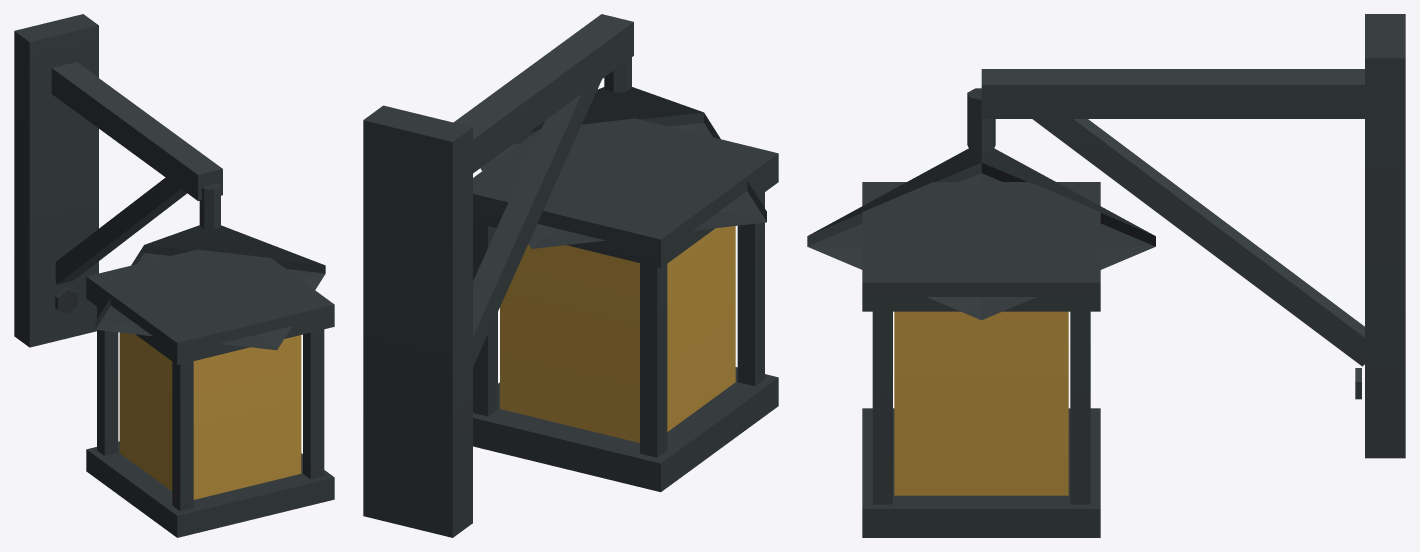
Rendered from town_lamp_wall.glb.
3 views of the same model, side by side, from view 1: azimuth 30°, elevation 25°; view 2: azimuth 150°, elevation 25°; view 3: azimuth 270°, elevation 25° (orthographic). The views are drawn at different scales.
Parts seen in each view (by area): view 1: town_lamp_wall; view 2: town_lamp_wall; view 3: town_lamp_wall.
Part boxes in pixels (bbox=[...]): town_lamp_wall: bbox=[14, 14, 334, 537]; town_lamp_wall: bbox=[363, 14, 778, 537]; town_lamp_wall: bbox=[807, 14, 1405, 537].
Bounding box in the file's own units: 0.6 × 0.95 × 1.03.
